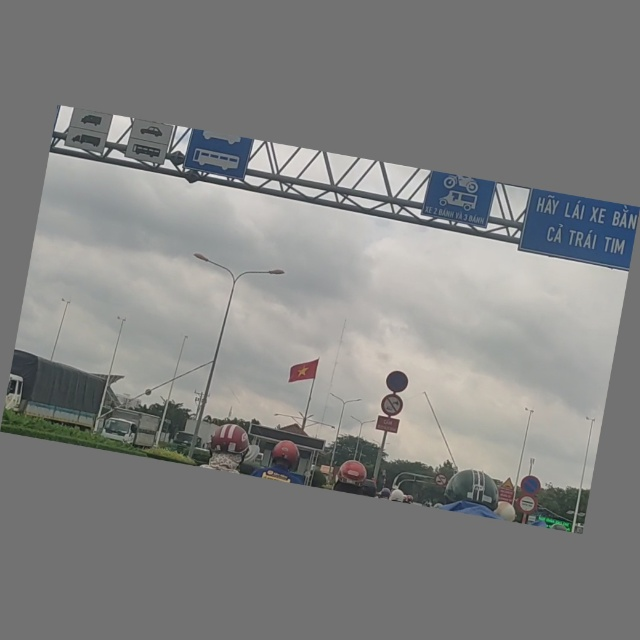P.107: (433, 473, 449, 487)
P.111: (379, 393, 405, 419)
P.129: (516, 494, 539, 516)
P.130: (384, 370, 411, 395)
P.131a: (519, 475, 543, 498)
W.221b: (501, 477, 516, 490)
